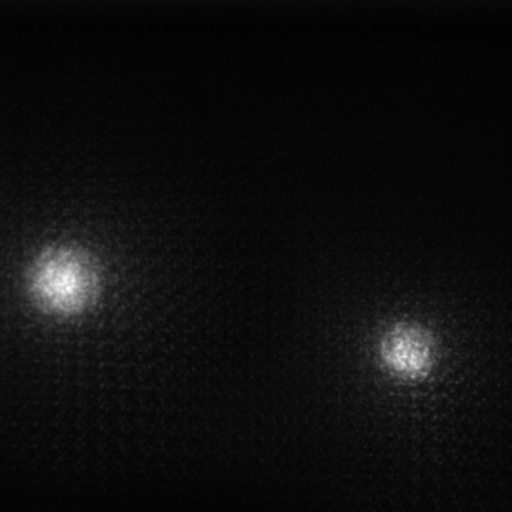lam3: (24, 247, 102, 315), (379, 323, 435, 379)
